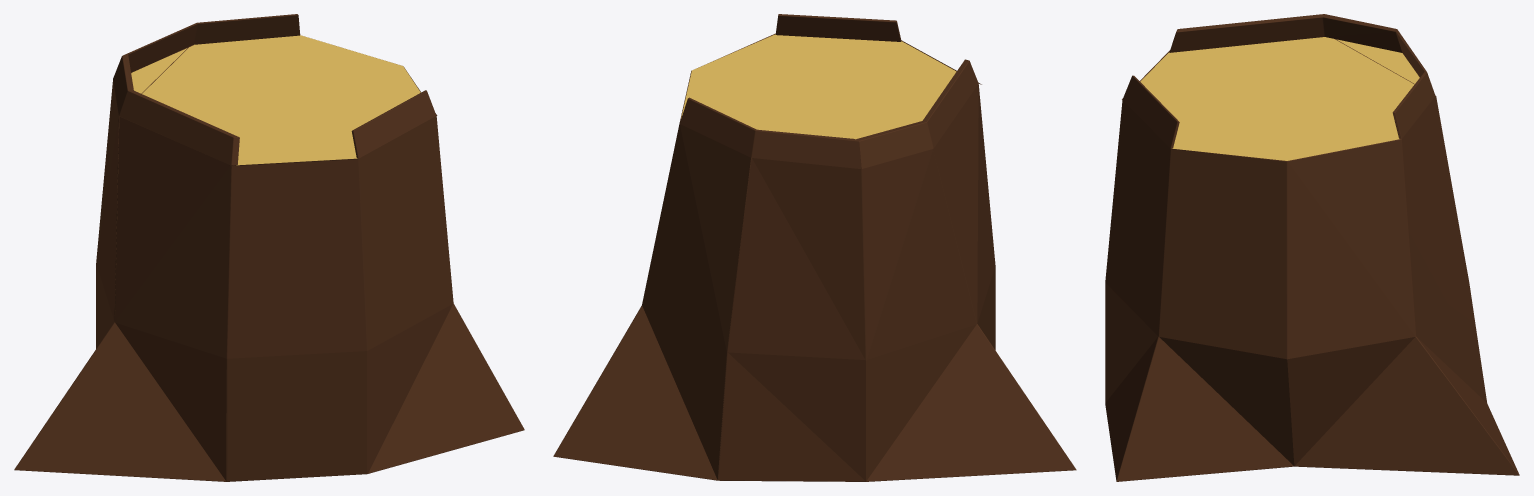
The model's file is Trunk.fbx.
3 renders of one model, left to right at view 1: azimuth 30°, elevation 25°; view 2: azimuth 150°, elevation 25°; view 3: azimuth 270°, elevation 25°, orthographic.
Parts seen in each view (by area): view 1: Cylinder; view 2: Cylinder; view 3: Cylinder.
Part boxes in pixels (bbox=[...]): Cylinder: bbox=[14, 14, 524, 481]; Cylinder: bbox=[553, 14, 1076, 481]; Cylinder: bbox=[1105, 14, 1519, 481].
Size of the model in its own units: 264 by 199 by 228.
